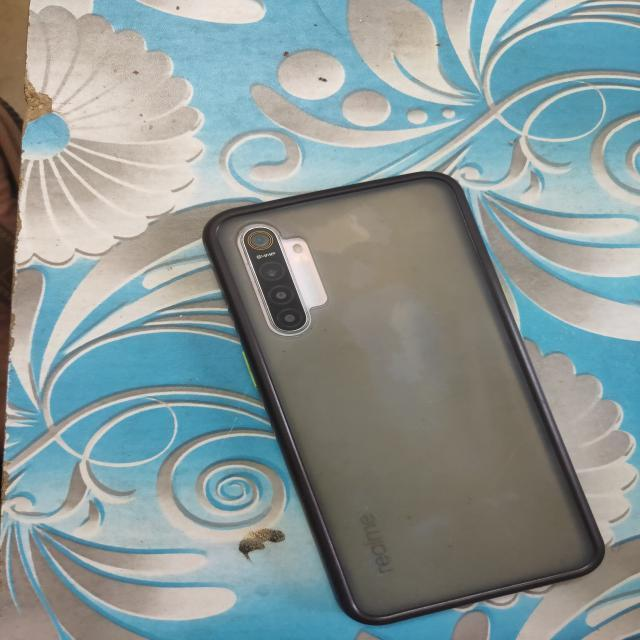Phone: (199, 172, 606, 627)
